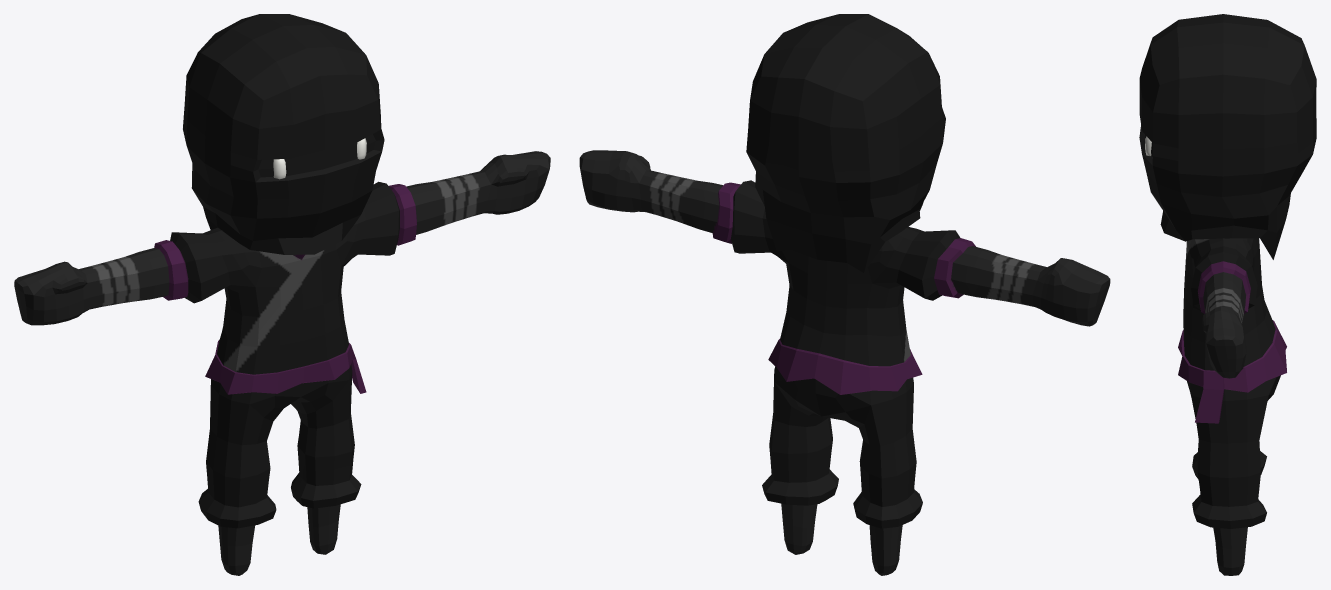
File: Ninja_Male.fbx
The picture shows the model from 3 angles, left to right: view 1: azimuth 30°, elevation 25°; view 2: azimuth 150°, elevation 25°; view 3: azimuth 270°, elevation 25°; orthographic projection.
Parts seen in each view (by area): view 1: Body; view 2: Body; view 3: Body.
Boxes of the visible parts, x1=… form: Body: x1=14, y1=14, x2=550, y2=575; Body: x1=579, y1=14, x2=1110, y2=575; Body: x1=1139, y1=14, x2=1316, y2=575.
Bounding box in the file's own units: 324 × 316 × 95.33.
Materials: 1 (1 with a texture image).
